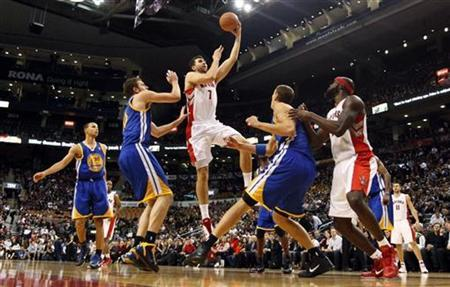basketball: (218, 11, 240, 33)
basketball player: (196, 86, 333, 278), (321, 74, 400, 278), (184, 33, 254, 242), (116, 69, 182, 273), (33, 118, 110, 273), (394, 177, 429, 276)
